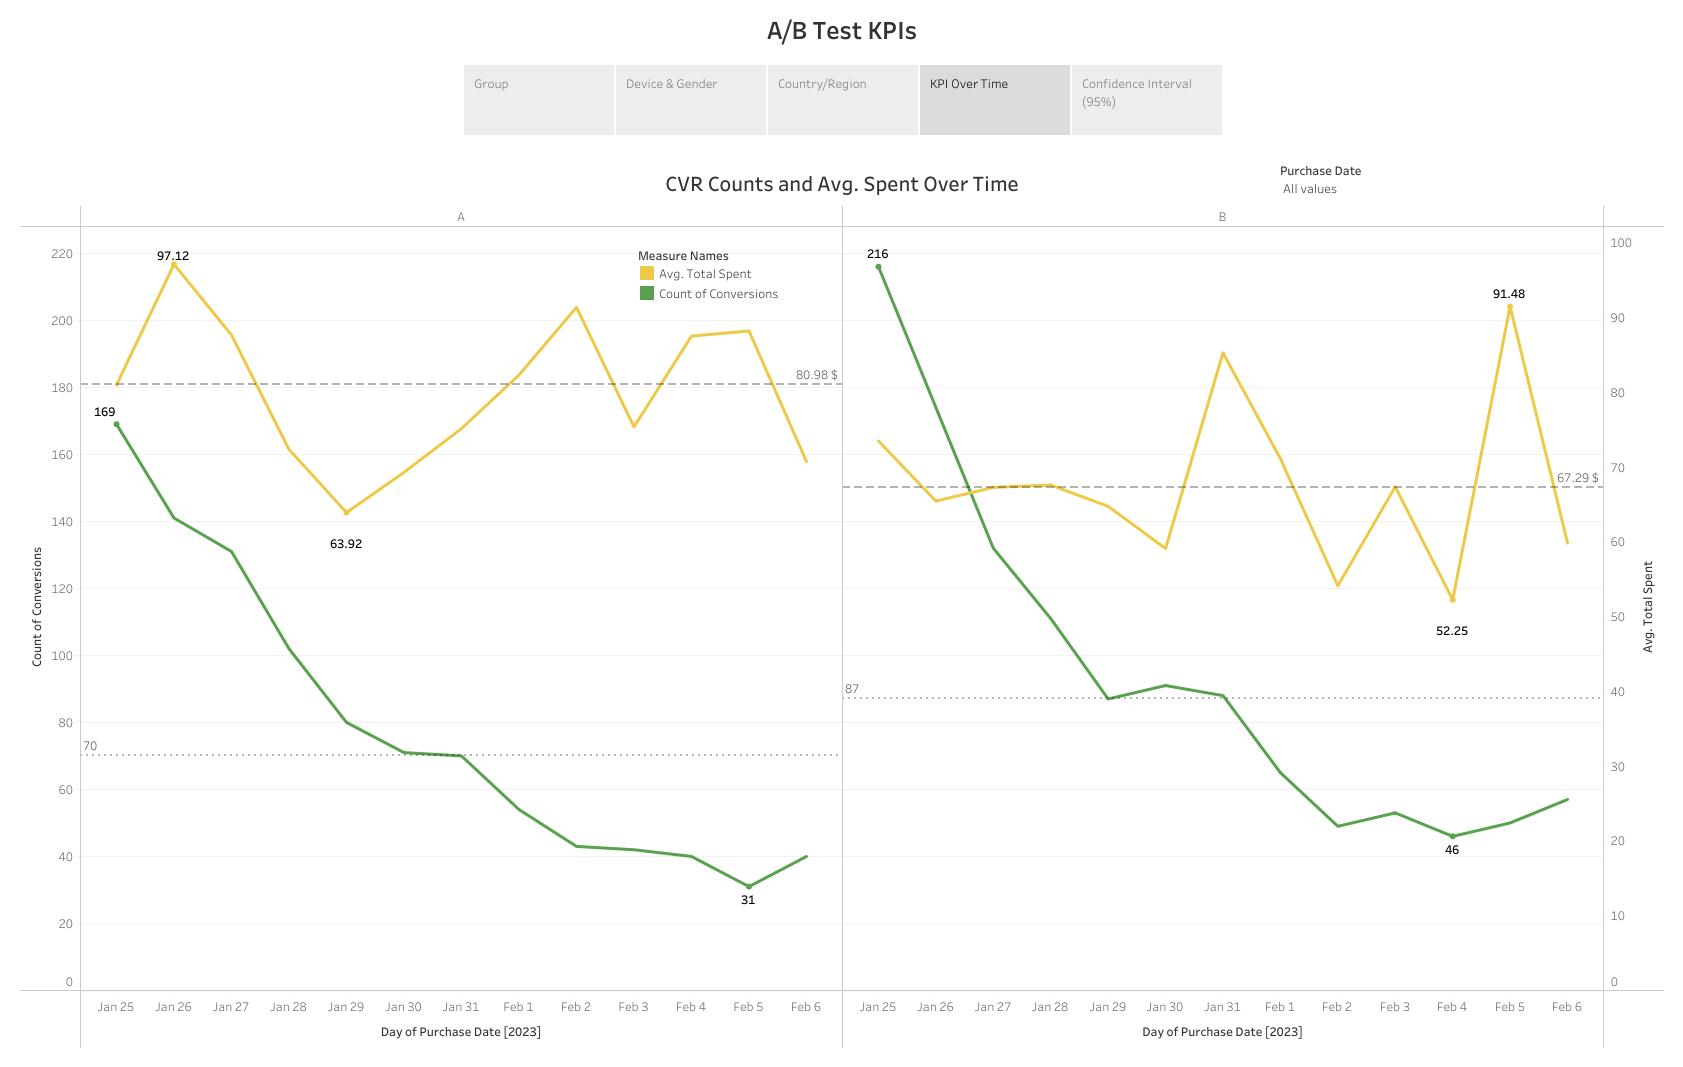

What the dashboard file says about the page in this screenshot:
{"tool":"tableau","page":{"name":"KPI Over Time","canvas":[1000,1000],"units":"permille","ordinal":4},"visuals":[{"type":"worksheet","title":"CVR Counts and Avg. Spent Over Time","mark":"Automatic","rows":["conversions","total_spent"],"cols":["group","purchase_date"],"box":[4.8,9.4,990.3,981.2]},{"type":"filter","title":"CVR Counts and Avg. Spent Over Time","param":"[federated.0wdiqqf16apeey1388g0716ce32p].[none:purchase_date:qk]","box":[762.4,9.4,109.4,85.8]},{"type":"legend","title":"CVR Counts and Avg. Spent Over Time","param":"[federated.0wdiqqf16apeey1388g0716ce32p].[:Measure Names]","box":[376.9,102.2,115.2,75.2]}]}

Visuals, with their boxes on the dashboard's canvas, which has no fixed pixel size, in thousandths of its width and height (x1, y1, x2, y2). These are canvas units, not pixel positions in the 1683x1067 screenshot, which may show the page scaled, cropped or inside an application window:
"CVR Counts and Avg. Spent Over Time" worksheet: bbox(5, 9, 995, 991)
"CVR Counts and Avg. Spent Over Time" filter: bbox(762, 9, 872, 95)
"CVR Counts and Avg. Spent Over Time" legend: bbox(377, 102, 492, 177)
